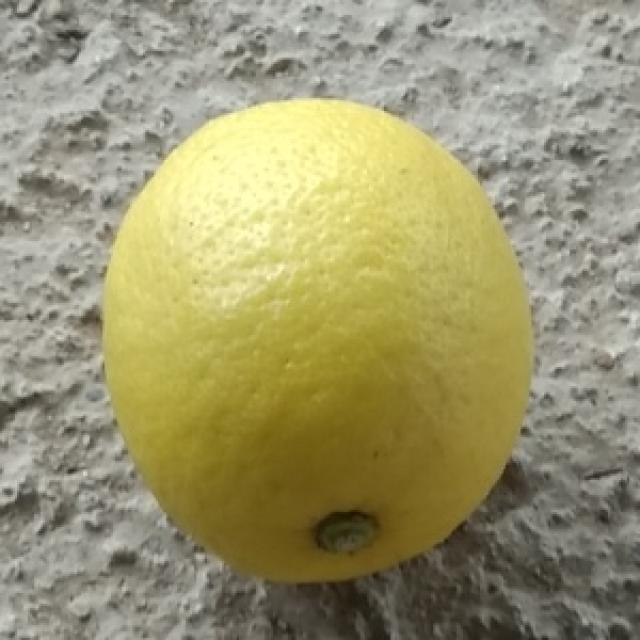Ripe: (96, 94, 540, 587)
